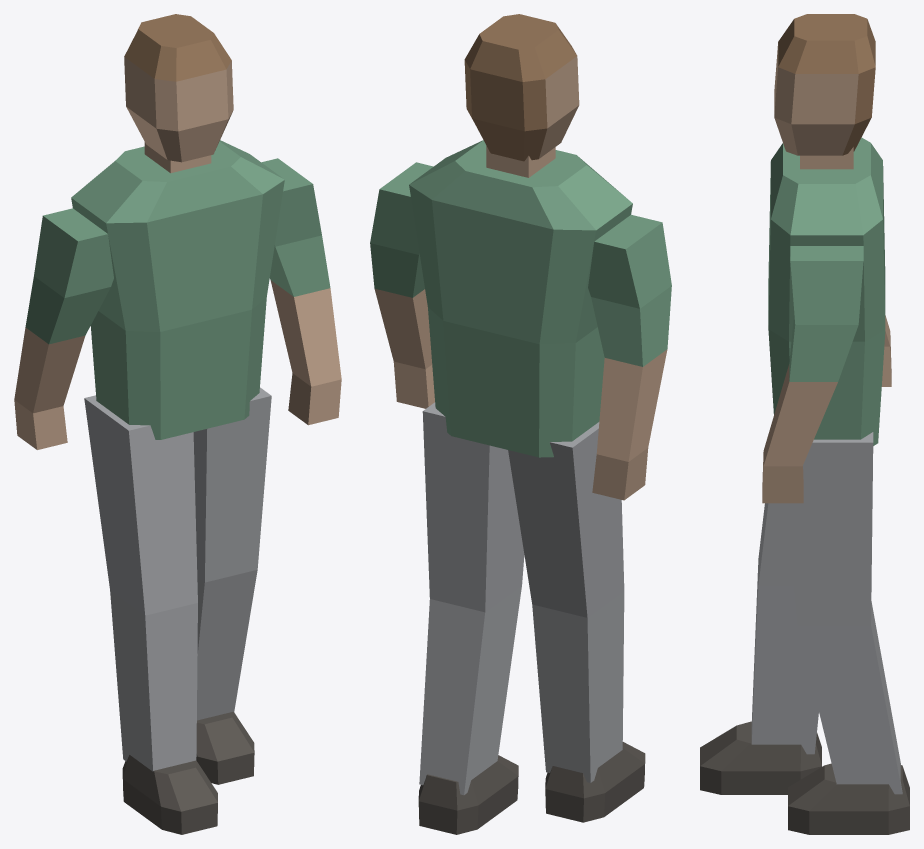
The model's file is pedestrian_5.fbx.
3 views of the same model, side by side, from view 1: azimuth 30°, elevation 25°; view 2: azimuth 150°, elevation 25°; view 3: azimuth 270°, elevation 25° (orthographic). The views are drawn at different scales.
Parts seen in each view (by area): view 1: pedestrian_5; view 2: pedestrian_5; view 3: pedestrian_5.
Boxes of the visible parts, x1,y1,x2,y2 form: pedestrian_5: (14,14,341,834); pedestrian_5: (370,14,671,834); pedestrian_5: (700,14,909,834).
Bounding box in the file's own units: 0.662 × 1.75 × 0.43.
